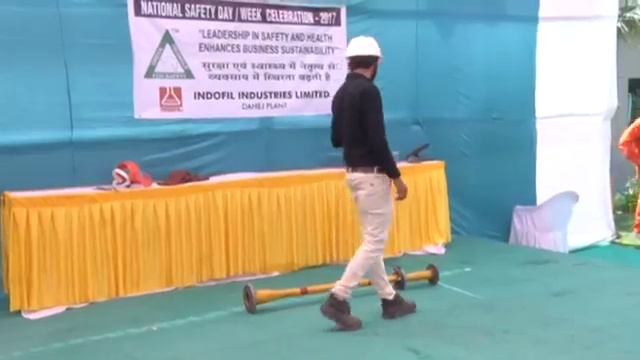helmet: (344, 32, 385, 63)
helmet_on: (342, 30, 385, 79)
person: (322, 30, 418, 324)
